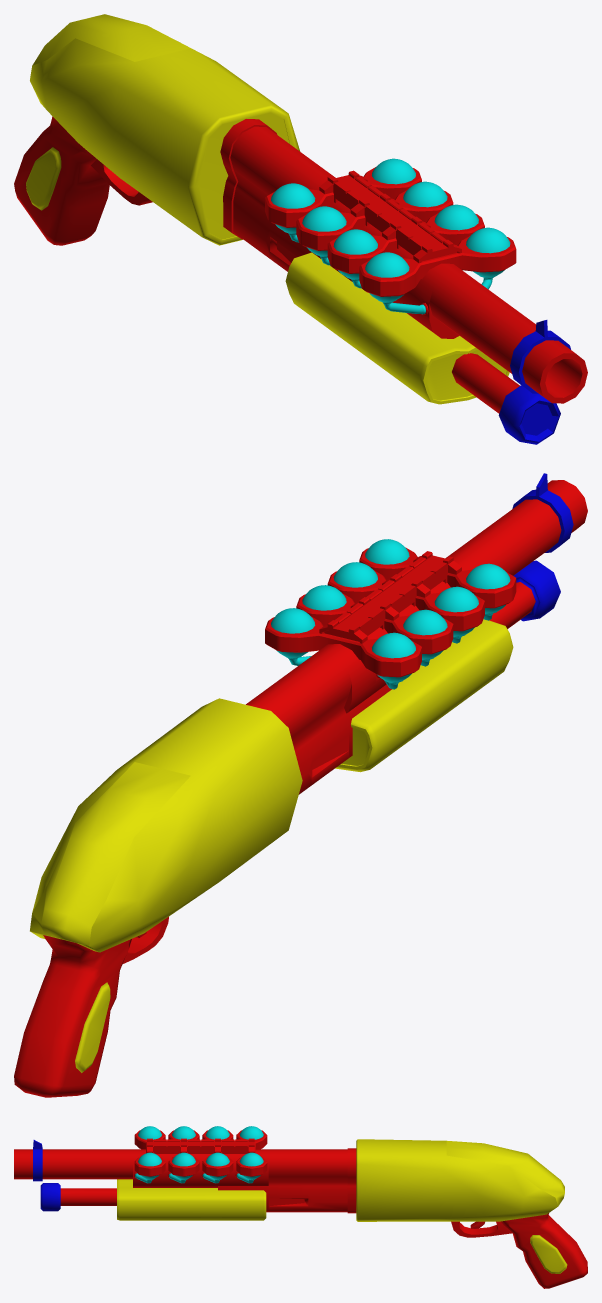
The model's file is PennyShotgun.fbx.
The picture shows the model from 3 angles, top to bottom: view 1: azimuth 30°, elevation 25°; view 2: azimuth 150°, elevation 25°; view 3: azimuth 270°, elevation 25°; orthographic projection. The views are drawn at different scales.
Parts seen in each view (by area): view 1: polySurface2; view 2: polySurface2; view 3: polySurface2.
Boxes of the visible parts, x1,y1,x2,y2 form: polySurface2: [14, 14, 587, 444]; polySurface2: [14, 473, 587, 1097]; polySurface2: [14, 1126, 587, 1288].
Bounding box in the file's own units: 2.8 × 4.86 × 17.41.
